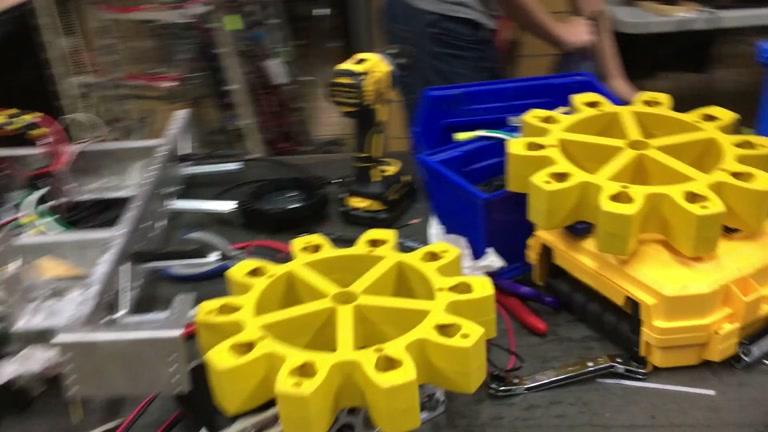gear: (191, 226, 496, 432), (508, 91, 767, 260)
